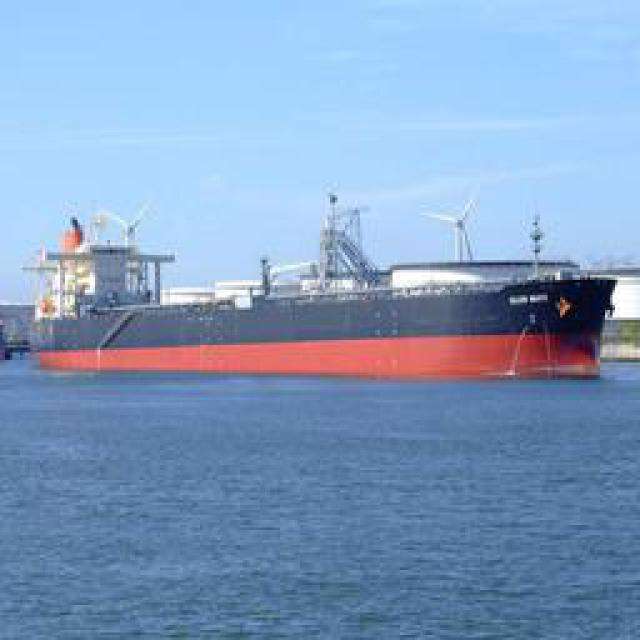Ship: (1, 196, 619, 386)
